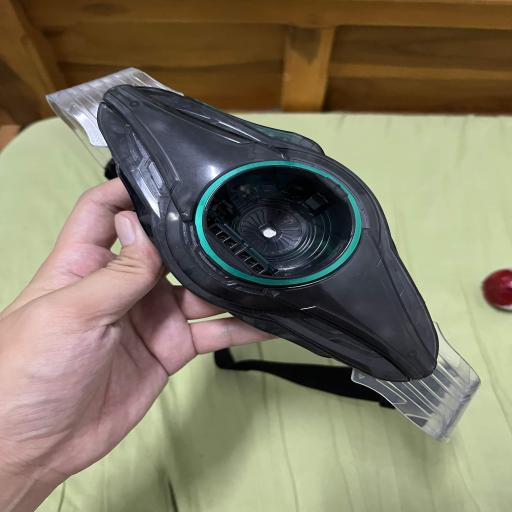zeztzdriver: (49, 68, 479, 439), (352, 322, 480, 442), (215, 348, 395, 410)
